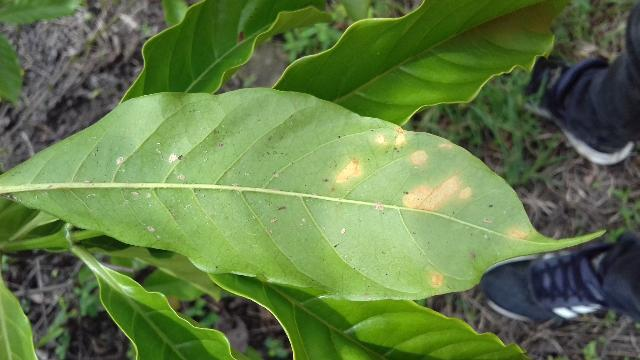rust_level_1: (0, 88, 610, 303)
